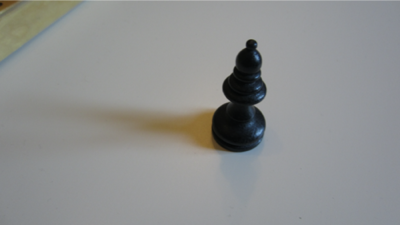black-bishop: (211, 38, 270, 153)
